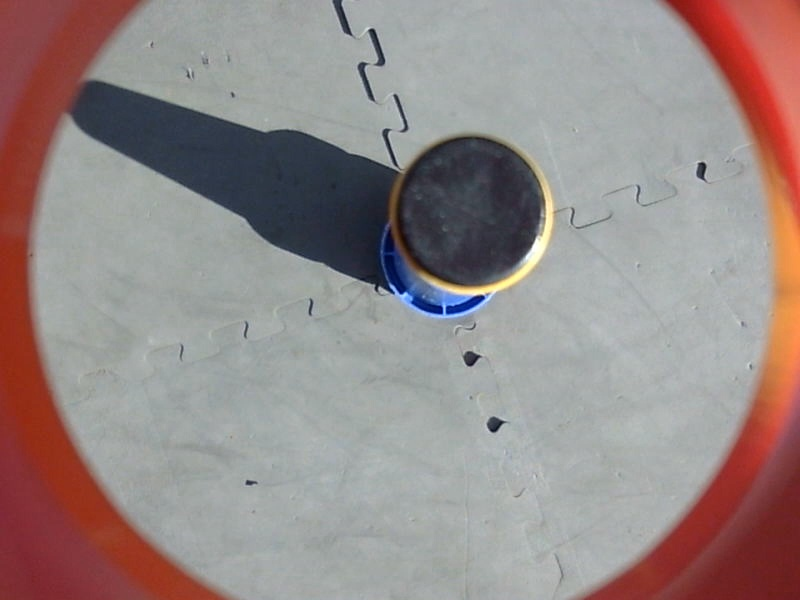tip: (384, 126, 559, 298)
